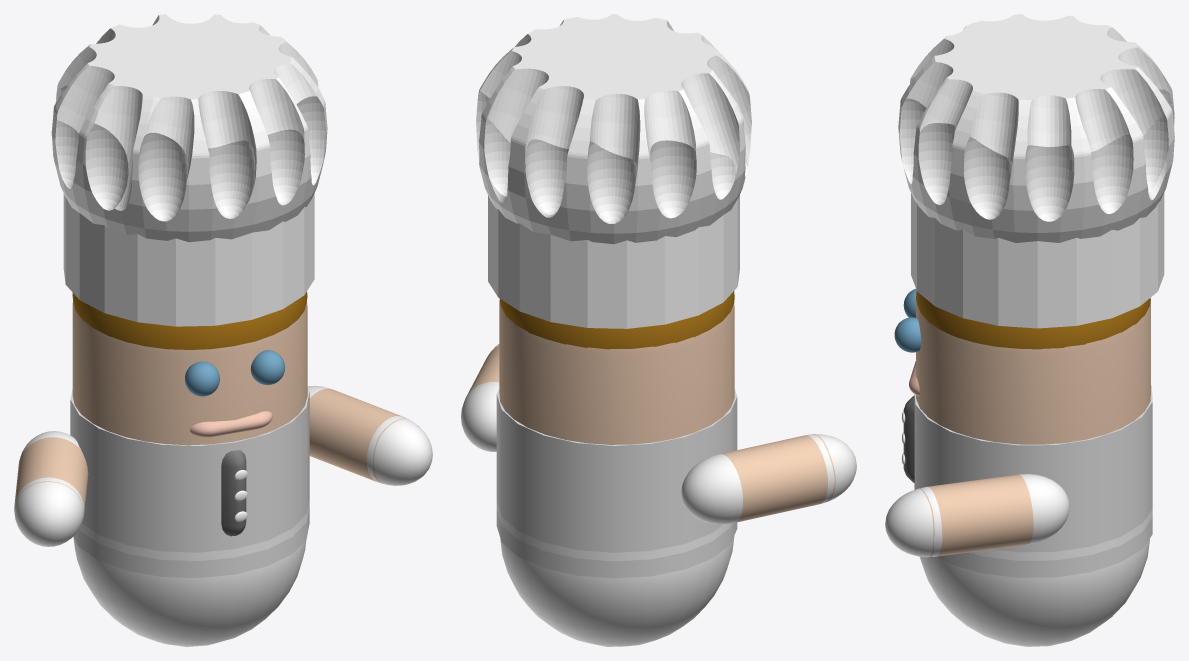
Rendered from chef.fbx.
The picture shows the model from 3 angles, left to right: view 1: azimuth 30°, elevation 25°; view 2: azimuth 150°, elevation 25°; view 3: azimuth 270°, elevation 25°; orthographic projection.
Parts seen in each view (by area): view 1: ChefHat, ChefShirt, Body, Pants, Hair, RightArm, BottomStripe, LeftGlove, RIghtGlove, LeftArm, TopStripe, Buttons (+3 smaller); view 2: ChefHat, ChefShirt, Body, Pants, LeftArm, Hair, BottomStripe, LeftSleeve, TopStripe, RightSleeve, LeftGlove, RightArm; view 3: ChefHat, Body, ChefShirt, Pants, RightArm, Hair, BottomStripe, RIghtGlove, RightSleeve, TopStripe, Buttons, RightEye.
Part boxes in pixels (box(x1,y1,x2,y2)): ChefHat: box(51, 14, 327, 326); ChefShirt: box(70, 389, 309, 552); Body: box(72, 301, 307, 445); Pants: box(73, 537, 306, 646); Hair: box(72, 292, 307, 349); RightArm: box(309, 388, 408, 483); BottomStripe: box(73, 507, 309, 578); LeftGlove: box(14, 477, 84, 546); RIghtGlove: box(366, 416, 432, 485); LeftArm: box(14, 437, 88, 513); TopStripe: box(79, 498, 309, 561); Buttons: box(221, 450, 246, 536); ChefHat: box(476, 14, 751, 328); ChefShirt: box(496, 388, 737, 552); Body: box(499, 299, 734, 444); Pants: box(500, 536, 734, 646); LeftArm: box(721, 434, 835, 522); Hair: box(500, 291, 734, 349); BottomStripe: box(496, 510, 737, 578); LeftSleeve: box(681, 454, 742, 524); TopStripe: box(496, 501, 731, 561); RightSleeve: box(461, 382, 499, 451); LeftGlove: box(806, 434, 856, 503); RightArm: box(466, 345, 499, 396); ChefHat: box(898, 14, 1174, 328); Body: box(916, 299, 1150, 444); ChefShirt: box(914, 385, 1152, 552); Pants: box(919, 538, 1150, 646); RightArm: box(919, 474, 1033, 557); Hair: box(916, 291, 1150, 349); BottomStripe: box(937, 518, 1152, 577); RIghtGlove: box(885, 486, 942, 557); RightSleeve: box(1019, 474, 1069, 544); TopStripe: box(969, 509, 1152, 560); Buttons: box(903, 396, 914, 482); RightEye: box(894, 317, 921, 352).
Bounding box in the file's own units: 188 × 271 × 123.
